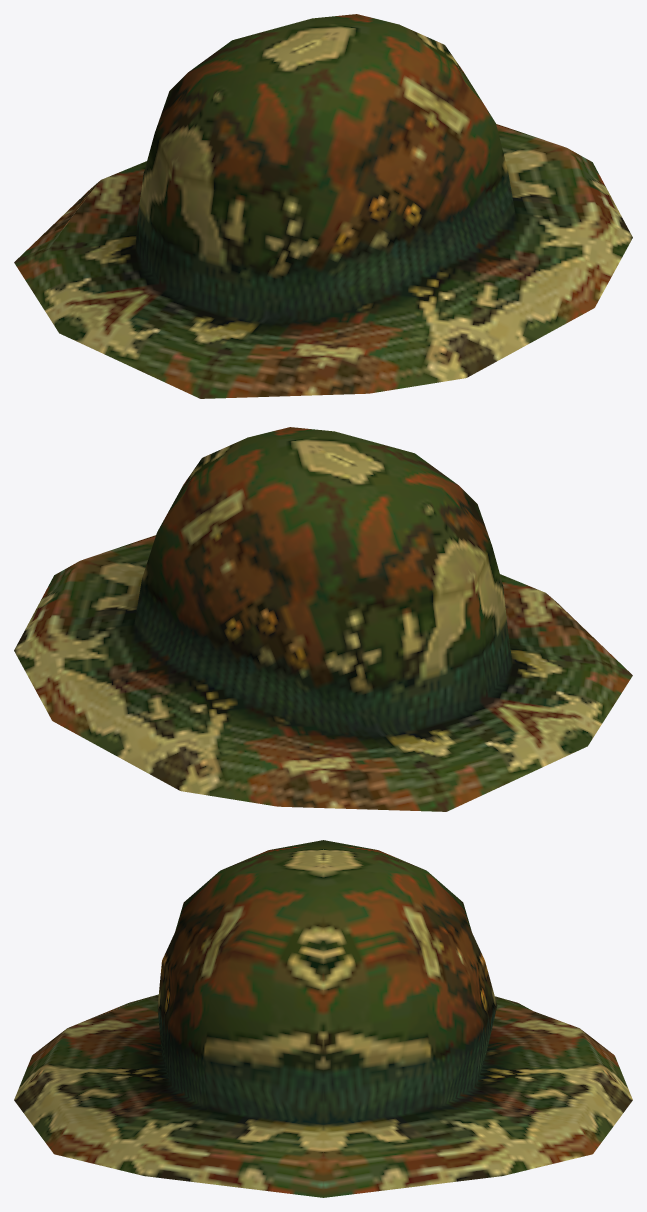
File: hat_0400009.FBX
The picture shows the model from 3 angles, top to bottom: view 1: azimuth 30°, elevation 25°; view 2: azimuth 150°, elevation 25°; view 3: azimuth 270°, elevation 25°; orthographic projection. The views are drawn at different scales.
Visible parts, largest first — view 1: hat_0400009; view 2: hat_0400009; view 3: hat_0400009.
Boxes of the visible parts, left/top/right/bottom form: hat_0400009: left=14, top=14, right=632, bottom=398; hat_0400009: left=14, top=427, right=632, bottom=811; hat_0400009: left=14, top=840, right=632, bottom=1197.
Size of the model in its own units: 45.98 by 20.03 by 44.27.
